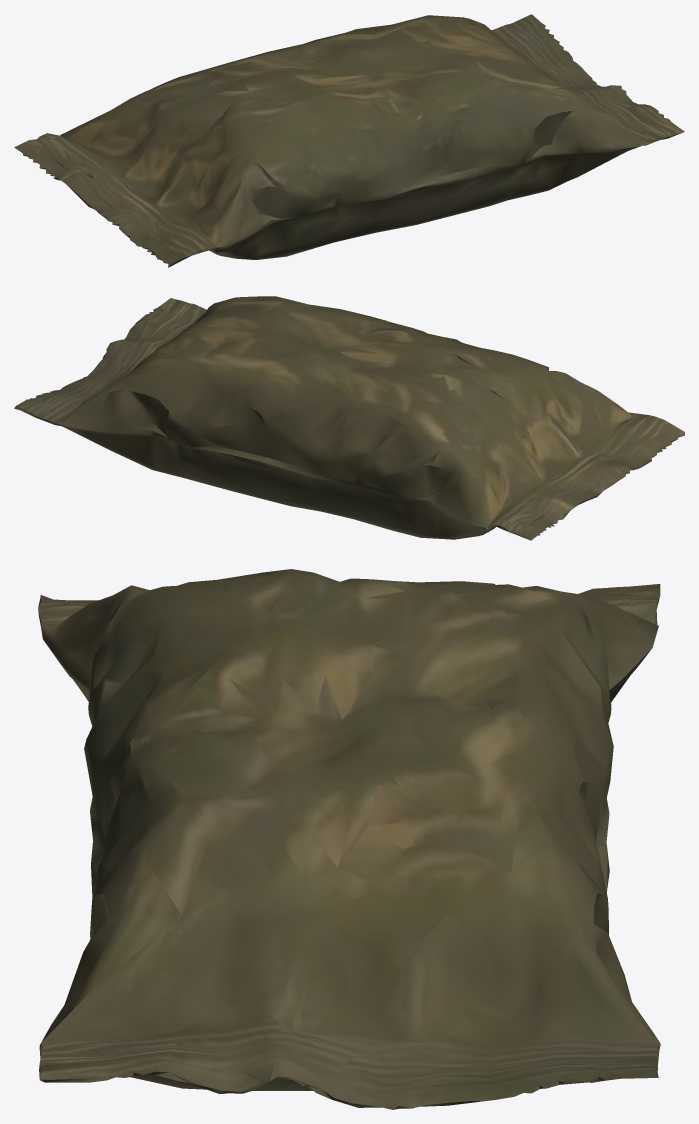
Rendered from ration_dry_armeyskiy_idle.glb.
3 renders of one model, top to bottom at view 1: azimuth 30°, elevation 25°; view 2: azimuth 150°, elevation 25°; view 3: azimuth 270°, elevation 25°, orthographic. The views are drawn at different scales.
Visible parts, largest first — view 1: tripo_node_fea1db9c-202f-4d5e-957a-7fd4eea574cd; view 2: tripo_node_fea1db9c-202f-4d5e-957a-7fd4eea574cd; view 3: tripo_node_fea1db9c-202f-4d5e-957a-7fd4eea574cd.
Boxes of the visible parts, x1,y1,x2,y2 form: tripo_node_fea1db9c-202f-4d5e-957a-7fd4eea574cd: [14, 14, 684, 267]; tripo_node_fea1db9c-202f-4d5e-957a-7fd4eea574cd: [14, 296, 684, 540]; tripo_node_fea1db9c-202f-4d5e-957a-7fd4eea574cd: [38, 569, 660, 1109].
Bounding box in the file's own units: 0.1501 × 0.0396 × 0.078.
1 material, 1 textured.
